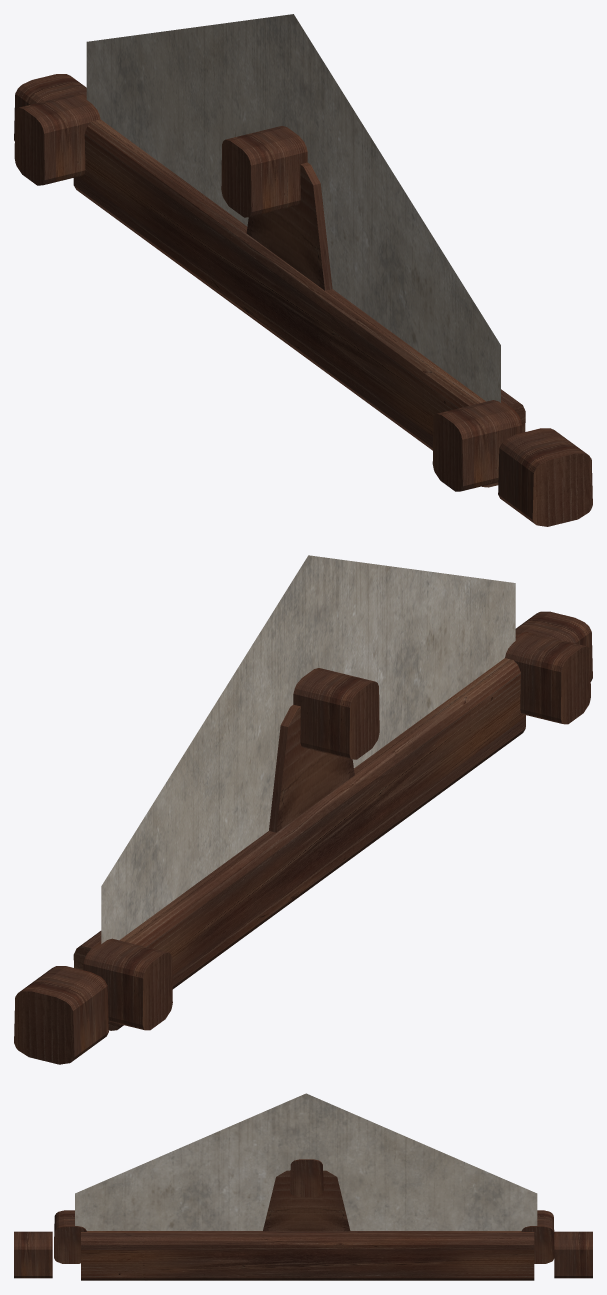
The model's file is SM_R_MiddleBeam_24.fbx.
3 views of the same model, one above another, from view 1: azimuth 30°, elevation 25°; view 2: azimuth 150°, elevation 25°; view 3: azimuth 270°, elevation 25° (orthographic). The views are drawn at different scales.
Visible parts, largest first — view 1: SM_R_MiddleBeam_24; view 2: SM_R_MiddleBeam_24; view 3: SM_R_MiddleBeam_24.
Part boxes in pixels (x1,y1,x2,y2): SM_R_MiddleBeam_24: (14,14,592,526); SM_R_MiddleBeam_24: (14,555,592,1064); SM_R_MiddleBeam_24: (14,1093,592,1280).
Size of the model in its own units: 38.3 by 365 by 126.
3 materials, 3 textured.
